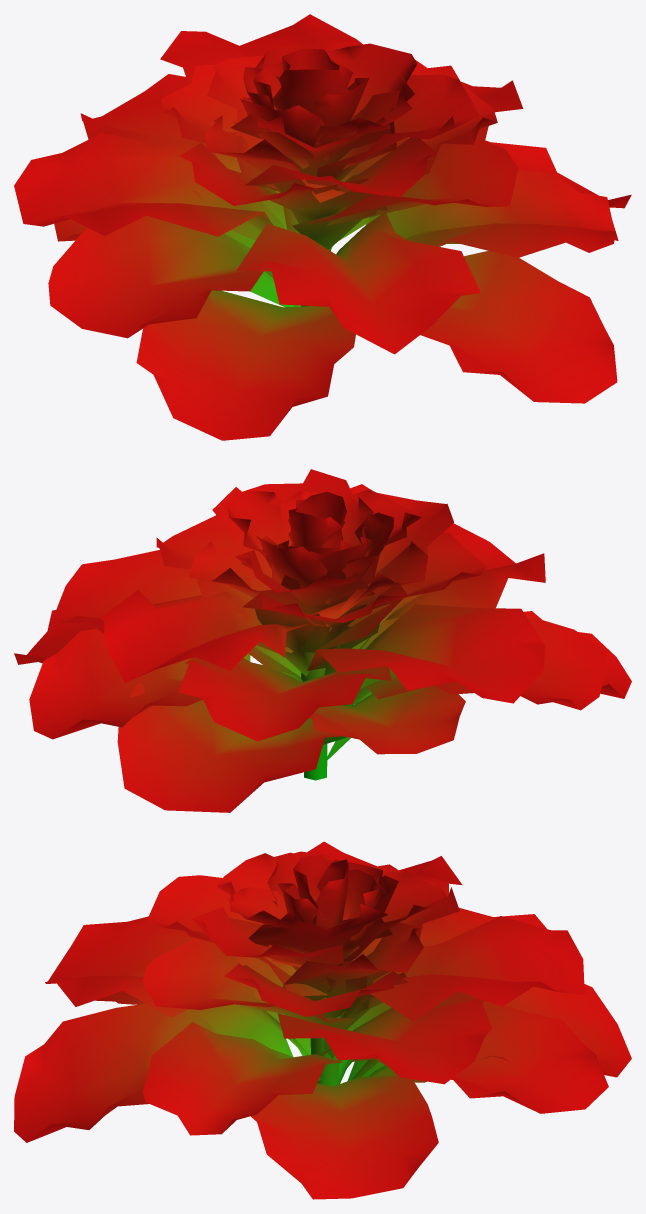
The model's file is Purple Ornamental Kale_LOD2_Var4_ugdieawja.fbx.
The picture shows the model from 3 angles, top to bottom: view 1: azimuth 30°, elevation 25°; view 2: azimuth 150°, elevation 25°; view 3: azimuth 270°, elevation 25°; orthographic projection. The views are drawn at different scales.
Visible parts, largest first — view 1: _cd16_Var4_LOD2; view 2: _cd16_Var4_LOD2; view 3: _cd16_Var4_LOD2.
Part boxes in pixels (<box>): _cd16_Var4_LOD2: <box>14,14,631,440</box>; _cd16_Var4_LOD2: <box>14,469,631,812</box>; _cd16_Var4_LOD2: <box>14,841,631,1199</box>.
Bounding box in the file's own units: 51.41 × 25.35 × 52.06.
